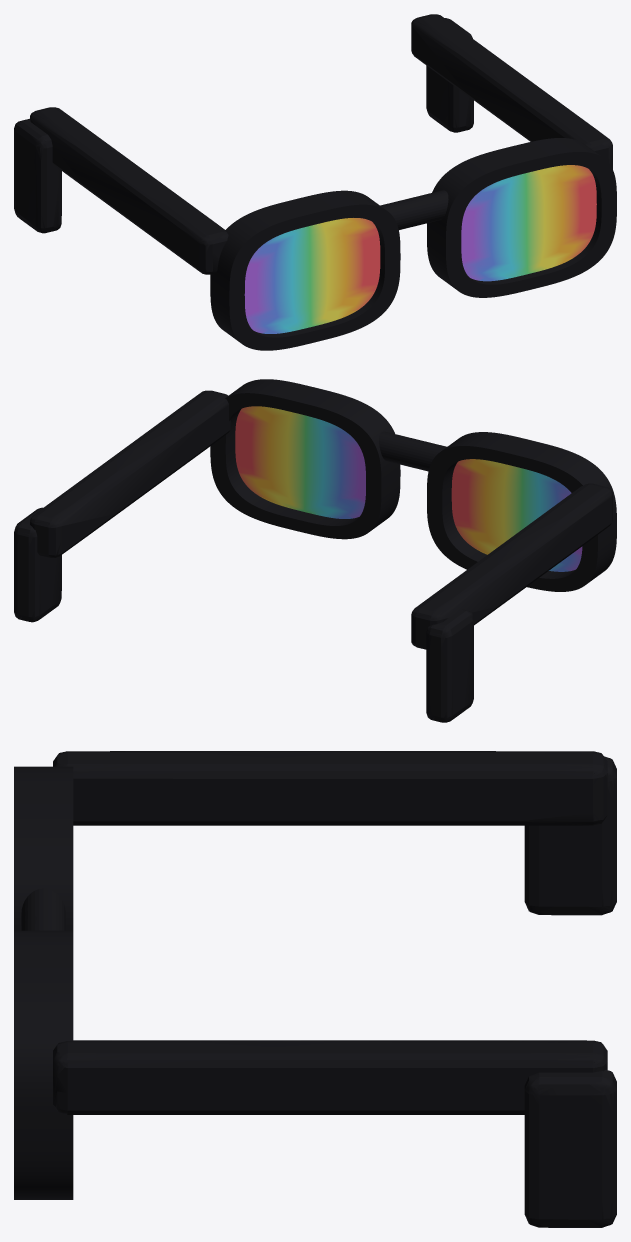
The model's file is rainbowshades.glb.
3 renders of one model, top to bottom at view 1: azimuth 30°, elevation 25°; view 2: azimuth 150°, elevation 25°; view 3: azimuth 270°, elevation 25°, orthographic. The views are drawn at different scales.
Visible parts, largest first — view 1: RectLensR.003, RectLensL.003, RectFrameL.003, RectFrameR.003, ArmL.009, ArmR.009, ArmLHook.009, ArmRHook.009, Bridge.007; view 2: RectFrameR.003, RectLensR.003, ArmR.009, ArmL.009, RectFrameL.003, RectLensL.003, ArmLHook.009, ArmRHook.009, Bridge.007; view 3: ArmL.009, ArmR.009, RectFrameR.003, ArmRHook.009, ArmLHook.009, RectFrameL.003, Bridge.007.
Boxes of the visible parts, x1,y1,x2,y2 form: RectLensR.003: (461, 165, 596, 281); RectLensL.003: (244, 218, 380, 333); RectFrameL.003: (210, 190, 400, 350); RectFrameR.003: (427, 138, 616, 297); ArmL.009: (30, 107, 228, 274); ArmR.009: (411, 14, 612, 168); ArmLHook.009: (14, 118, 61, 233); ArmRHook.009: (426, 18, 473, 132); Bridge.007: (380, 190, 448, 229); RectFrameR.003: (210, 379, 400, 539); RectLensR.003: (235, 406, 365, 518); ArmR.009: (30, 390, 231, 557); ArmL.009: (411, 483, 612, 649); RectFrameL.003: (427, 432, 616, 591); RectLensL.003: (451, 459, 582, 571); ArmLHook.009: (426, 609, 473, 722); ArmRHook.009: (14, 507, 61, 622); Bridge.007: (379, 431, 446, 471); ArmL.009: (53, 751, 607, 825); ArmR.009: (53, 1040, 607, 1114); RectFrameR.003: (14, 930, 73, 1199); ArmRHook.009: (524, 1069, 616, 1227); ArmLHook.009: (524, 756, 616, 915); RectFrameL.003: (14, 766, 73, 930); Bridge.007: (21, 888, 65, 930).
Size of the model in its own units: 0.424 by 0.12 by 0.326.
